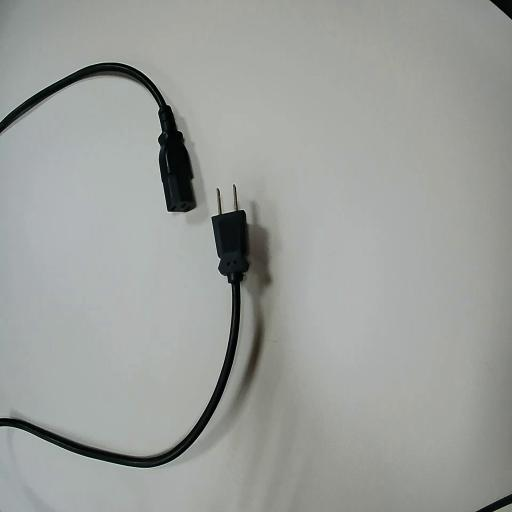wire: (0, 210, 250, 466), (0, 64, 194, 210)
